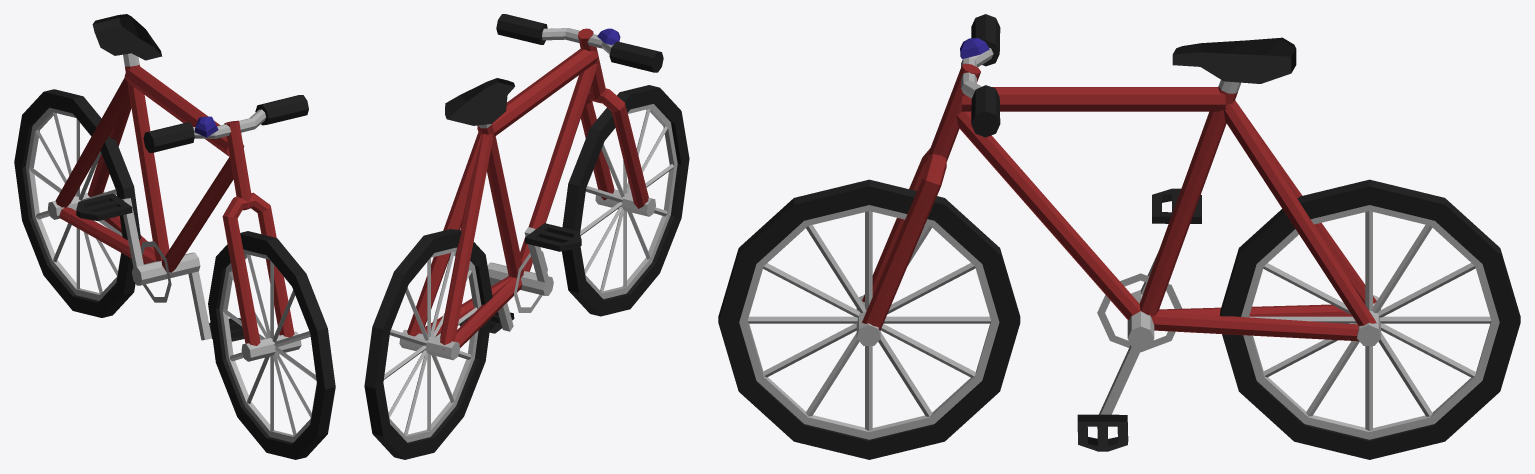
The model's file is biker.fbx.
3 renders of one model, left to right at view 1: azimuth 30°, elevation 25°; view 2: azimuth 150°, elevation 25°; view 3: azimuth 270°, elevation 25°, orthographic. The views are drawn at different scales.
Parts seen in each view (by area): view 1: Wheel_Front, Wheel_Back, LoopFrame, Frame_Front, Frame_Back, PedalCenter, Handle, PedalRight, Bell; view 2: Wheel_Back, Wheel_Front, LoopFrame, Frame_Back, Frame_Front, Handle, PedalCenter, PedalRight; view 3: Wheel_Front, Wheel_Back, LoopFrame, Frame_Back, Frame_Front, PedalCenter, Handle, PedalLeft, PedalRight.
Part boxes in pixels (x1,y1,x2,y2): Wheel_Front: (208, 231, 335, 459); Wheel_Back: (14, 89, 140, 317); LoopFrame: (92, 14, 244, 272); Frame_Front: (222, 120, 294, 345); Frame_Back: (55, 77, 155, 264); PedalCenter: (122, 198, 211, 340); Handle: (143, 95, 308, 152); PedalRight: (76, 193, 132, 220); Bell: (194, 116, 218, 137); Wheel_Back: (364, 229, 492, 459); Wheel_Front: (562, 85, 689, 316); LoopFrame: (445, 49, 597, 278); Frame_Back: (407, 132, 522, 349); Frame_Front: (578, 28, 648, 208); Handle: (496, 14, 663, 72); PedalCenter: (487, 227, 553, 331); PedalRight: (525, 223, 581, 251); Wheel_Front: (718, 179, 1020, 459); Wheel_Back: (1219, 179, 1520, 459); LoopFrame: (956, 37, 1296, 320); Frame_Back: (1151, 100, 1379, 341); Frame_Front: (862, 63, 980, 330); PedalCenter: (1097, 253, 1182, 414); Handle: (961, 14, 1000, 137); PedalLeft: (1077, 414, 1128, 451); PedalRight: (1152, 188, 1201, 223).
Size of the model in its own units: 112 by 220 by 391.
